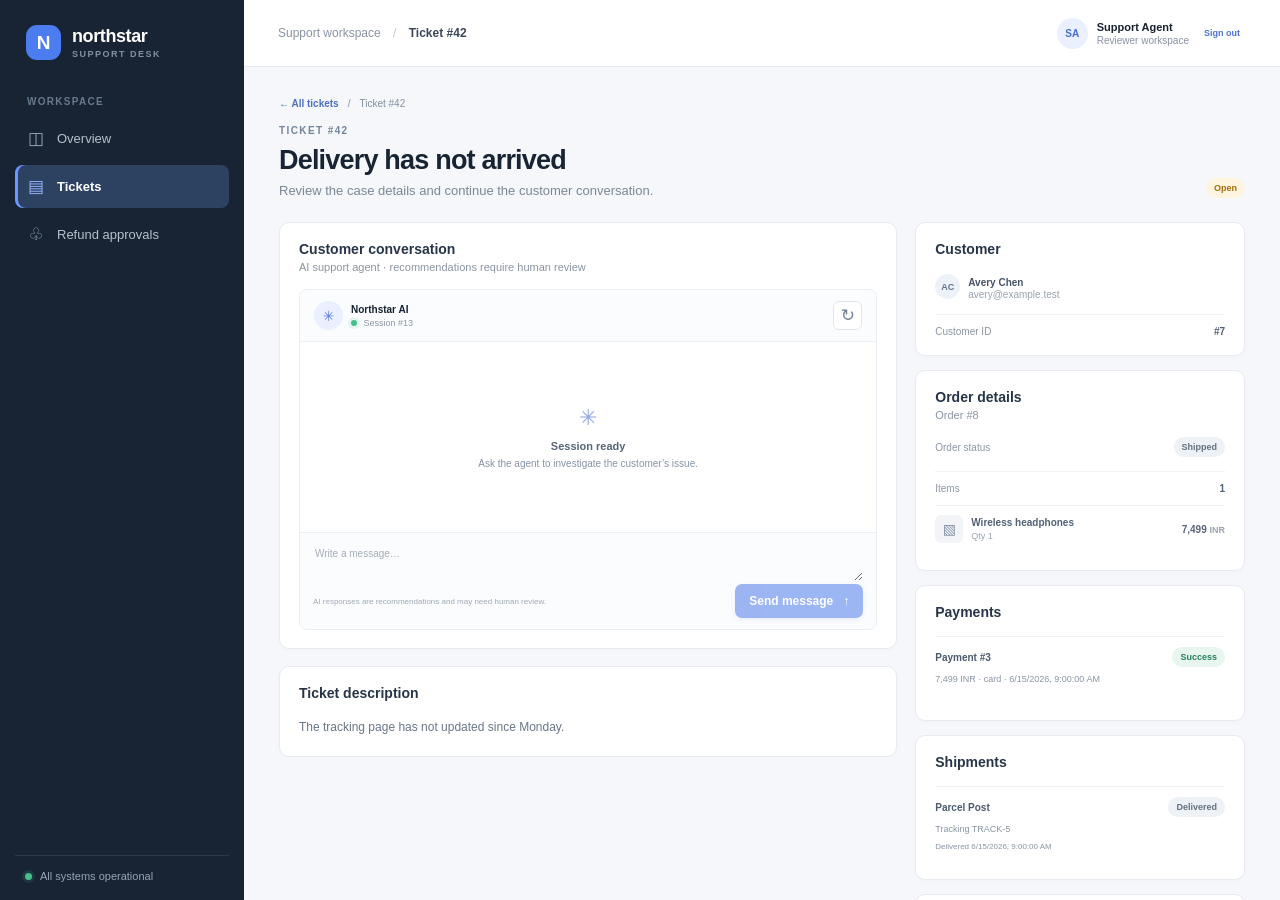
Test case: support dashboard › reuses the same idempotency key when a message request is retried after an error
Later steps or results of the test are not shown.
Type "Please check this delivery." into the text box named "Message the support agent" at x=588, y=563, box x1=313 y1=544 x2=863 y2=581
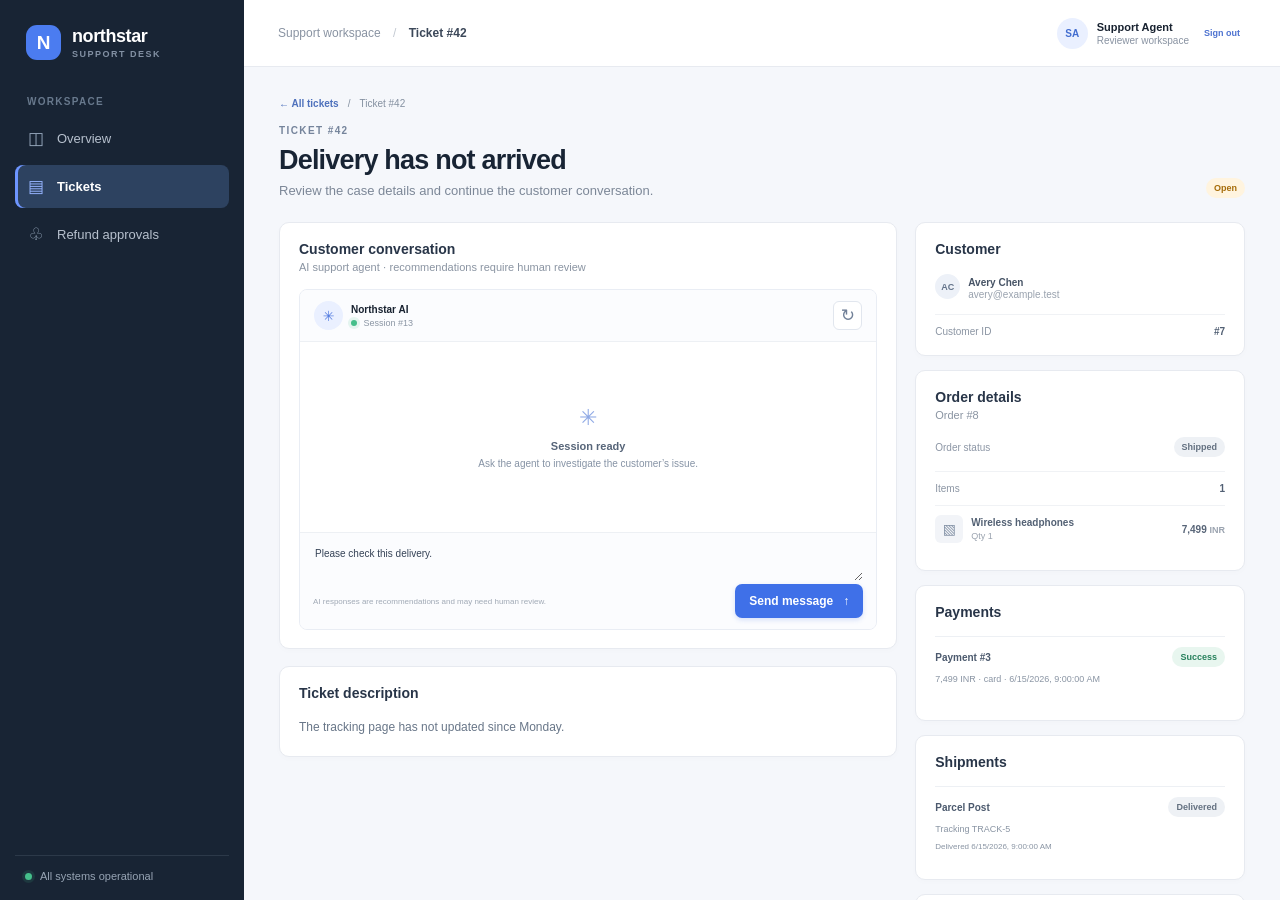
Click the button "Send message ↑" at x=799, y=601, box x1=735 y1=584 x2=863 y2=618
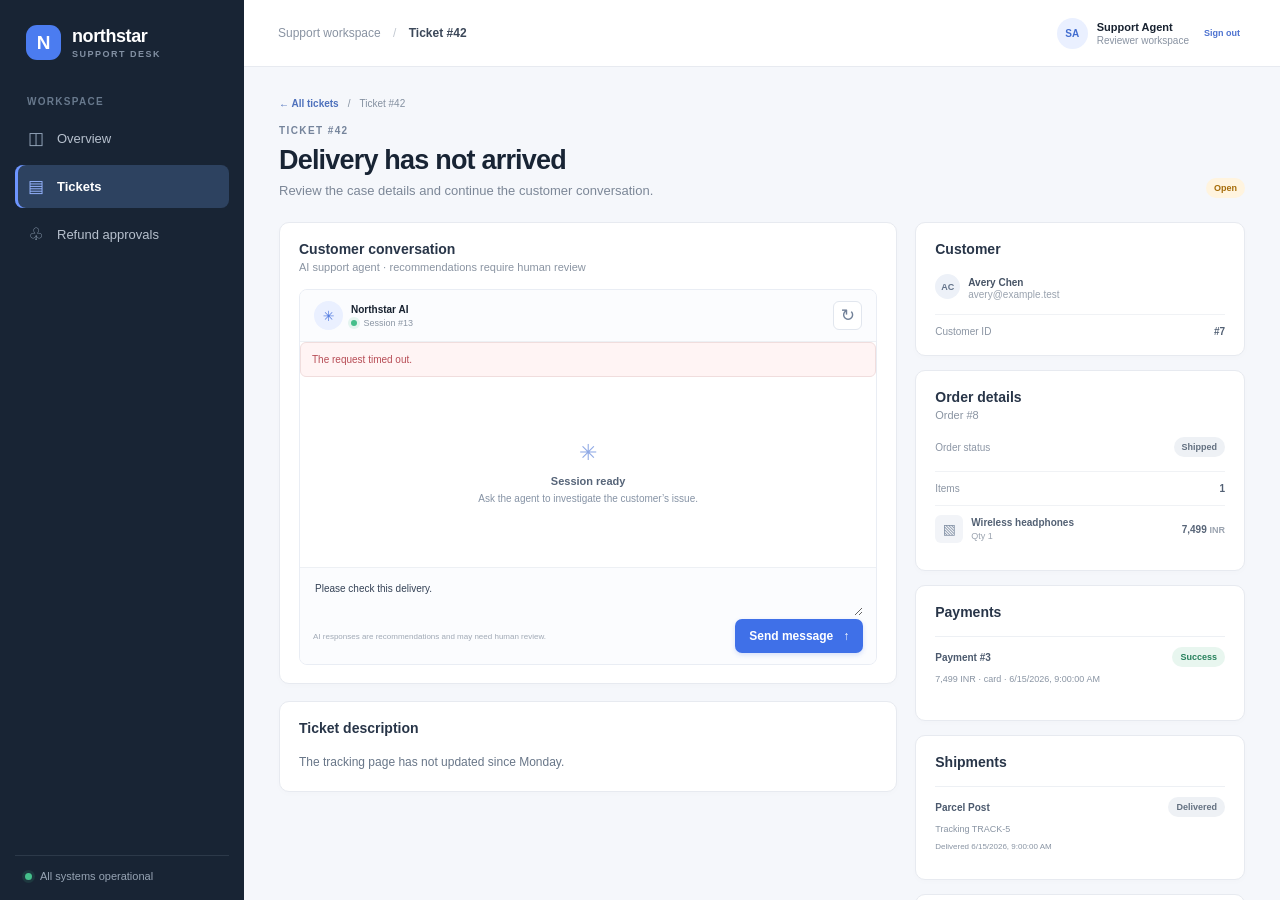
Result: the text "The request timed out." is shown at x1=300 y1=342 x2=876 y2=377
